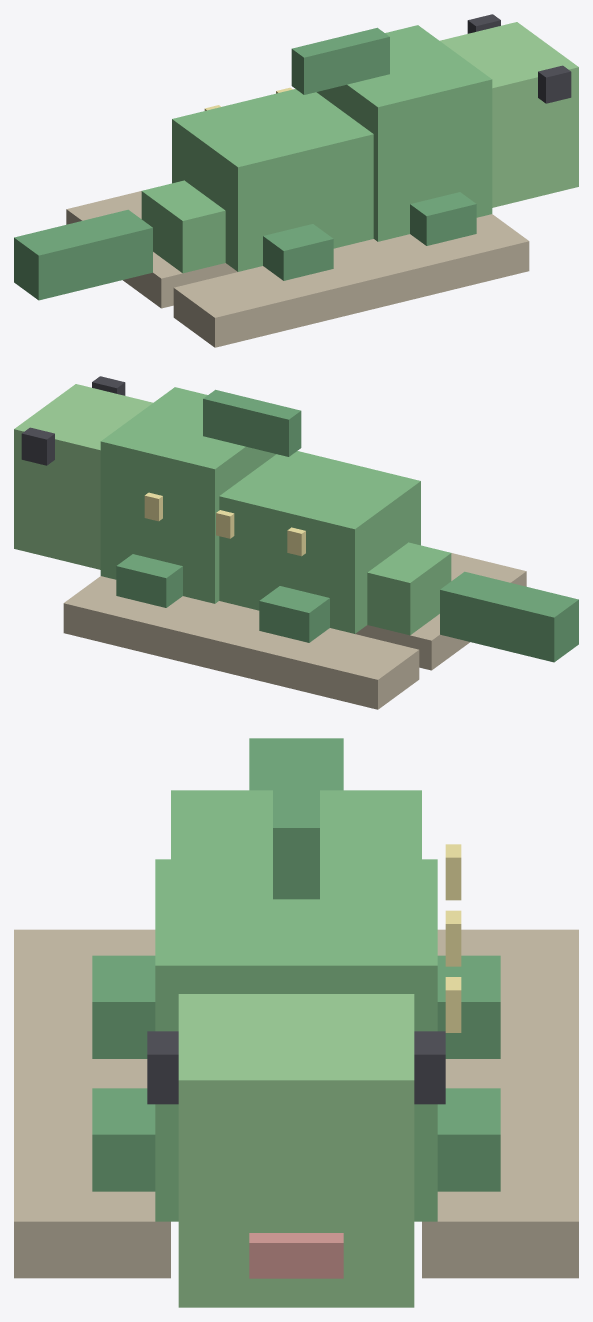
File: 36-Fauna_lagarto_isla.glb
The picture shows the model from 3 angles, top to bottom: view 1: azimuth 30°, elevation 25°; view 2: azimuth 150°, elevation 25°; view 3: azimuth 270°, elevation 25°; orthographic projection. The views are drawn at different scales.
Parts seen in each view (by area): view 1: SM_Lagarto_Cuerpo_NOFUNDIR, SM_Lagarto_Rodela_NOFUNDIR, SM_Lagarto_Apendices_NOFUNDIR, SM_Lagarto_Cabeza_NOFUNDIR, SM_Lagarto_M_Lagarto_Ojo; view 2: SM_Lagarto_Cuerpo_NOFUNDIR, SM_Lagarto_Rodela_NOFUNDIR, SM_Lagarto_Apendices_NOFUNDIR, SM_Lagarto_Cabeza_NOFUNDIR, SM_Lagarto_M_Lagarto_Ojo, SM_Lagarto_M_Lagarto_Escama; view 3: SM_Lagarto_Rodela_NOFUNDIR, SM_Lagarto_Cabeza_NOFUNDIR, SM_Lagarto_Cuerpo_NOFUNDIR, SM_Lagarto_Apendices_NOFUNDIR, SM_Lagarto_M_Lagarto_Ojo, SM_Lagarto_M_Lagarto_Boca, SM_Lagarto_M_Lagarto_Escama.
Boxes of the visible parts, bbox=[...] form: SM_Lagarto_Cuerpo_NOFUNDIR: bbox=[141, 25, 492, 273]; SM_Lagarto_Rodela_NOFUNDIR: bbox=[66, 191, 529, 347]; SM_Lagarto_Apendices_NOFUNDIR: bbox=[14, 27, 476, 300]; SM_Lagarto_Cabeza_NOFUNDIR: bbox=[440, 22, 578, 207]; SM_Lagarto_M_Lagarto_Ojo: bbox=[467, 14, 571, 103]; SM_Lagarto_Cuerpo_NOFUNDIR: bbox=[100, 387, 451, 635]; SM_Lagarto_Rodela_NOFUNDIR: bbox=[63, 553, 526, 709]; SM_Lagarto_Apendices_NOFUNDIR: bbox=[116, 389, 578, 662]; SM_Lagarto_Cabeza_NOFUNDIR: bbox=[14, 384, 152, 569]; SM_Lagarto_M_Lagarto_Ojo: bbox=[21, 376, 125, 465]; SM_Lagarto_M_Lagarto_Escama: bbox=[144, 492, 305, 556]; SM_Lagarto_Rodela_NOFUNDIR: bbox=[14, 929, 578, 1278]; SM_Lagarto_Cabeza_NOFUNDIR: bbox=[178, 994, 414, 1307]; SM_Lagarto_Cuerpo_NOFUNDIR: bbox=[155, 790, 437, 1221]; SM_Lagarto_Apendices_NOFUNDIR: bbox=[92, 738, 500, 1191]; SM_Lagarto_M_Lagarto_Ojo: bbox=[147, 1031, 445, 1104]; SM_Lagarto_M_Lagarto_Boca: bbox=[249, 1233, 343, 1278]; SM_Lagarto_M_Lagarto_Escama: bbox=[445, 844, 461, 1032].
Bounding box in the file's own units: 0.745 × 0.27 × 0.36.
